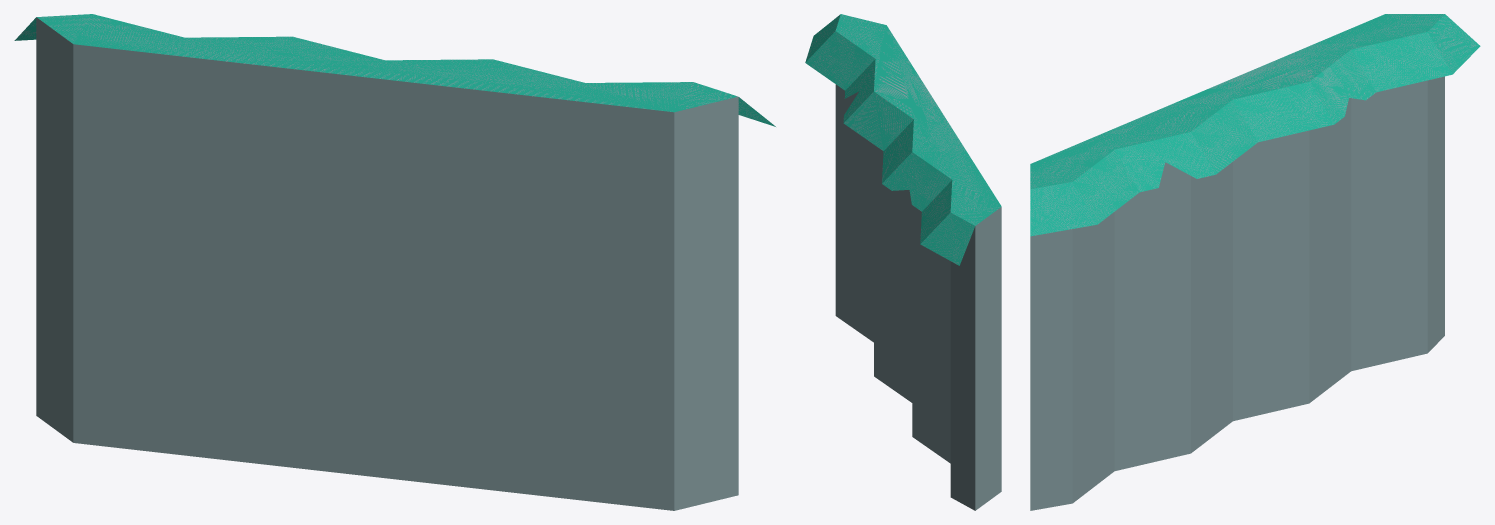
The model's file is cliff_topDiagonal_stone.glb.
3 renders of one model, left to right at view 1: azimuth 30°, elevation 25°; view 2: azimuth 150°, elevation 25°; view 3: azimuth 270°, elevation 25°, orthographic. The views are drawn at different scales.
Parts seen in each view (by area): view 1: cliff_topDiagonal_stone; view 2: cliff_topDiagonal_stone; view 3: cliff_topDiagonal_stone.
Boxes of the visible parts, x1=… form: cliff_topDiagonal_stone: x1=14, y1=14, x2=775, y2=510; cliff_topDiagonal_stone: x1=805, y1=14, x2=1001, y2=510; cliff_topDiagonal_stone: x1=1030, y1=14, x2=1480, y2=510.
Bounding box in the file's own units: 1.52 × 1.2 × 1.52.
